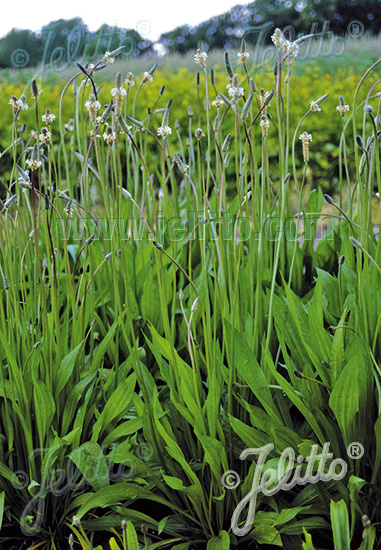buckhorn plantain: (7, 47, 381, 506)
